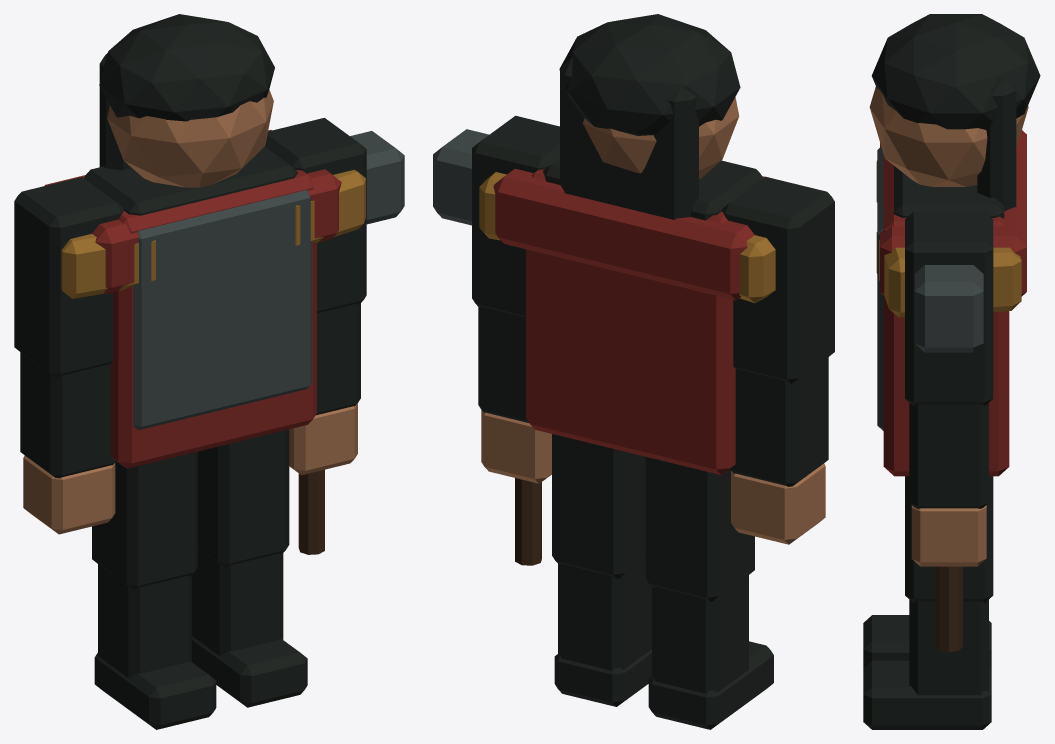
The model's file is MaraForgeOathkeeper.glb.
The picture shows the model from 3 angles, left to right: view 1: azimuth 30°, elevation 25°; view 2: azimuth 150°, elevation 25°; view 3: azimuth 270°, elevation 25°; orthographic projection. The views are drawn at different scales.
Parts seen in each view (by area): view 1: UpperTorso_ForgePlate, LeftUpperArm, Head_HairCap, UpperTorso_Tunic, LeftUpperLeg, RightUpperLeg, Head, LeftLowerArm, LeftLowerLeg, RightLowerLeg, RightUpperArm, LeftFoot (+11 smaller); view 2: UpperTorso_Tunic, UpperTorso_OathMantle, LeftUpperArm, Head_HairCap, LeftUpperLeg, RightUpperLeg, Head_HairBack, LeftLowerArm, LeftLowerLeg, RightLowerLeg, RightUpperArm, LeftHand (+10 smaller); view 3: Head_HairCap, RightUpperArm, RightLowerArm, UpperTorso_Tunic, Head, RightFoot, RightLowerLeg, RightHand_HammerHead, RightHand, Head_HairBack, RightUpperLeg, UpperTorso_PauldronR (+5 smaller).
Boxes of the visible parts, left/top/right/bottom form: UpperTorso_ForgePlate: left=133, top=190, right=312, bottom=430; LeftUpperArm: left=14, top=177, right=123, bottom=378; Head_HairCap: left=99, top=14, right=274, bottom=121; UpperTorso_Tunic: left=110, top=170, right=316, bottom=468; LeftUpperLeg: left=92, top=451, right=197, bottom=590; RightUpperLeg: left=198, top=429, right=289, bottom=568; Head: left=107, top=90, right=273, bottom=187; LeftLowerArm: left=20, top=352, right=115, bottom=478; LeftLowerLeg: left=98, top=564, right=191, bottom=677; RightLowerLeg: left=192, top=548, right=283, bottom=655; RightUpperArm: left=265, top=118, right=366, bottom=313; LeftFoot: left=94, top=653, right=216, bottom=729; UpperTorso_Tunic: left=526, top=169, right=764, bottom=475; UpperTorso_OathMantle: left=493, top=168, right=754, bottom=300; LeftUpperArm: left=722, top=176, right=834, bottom=384; Head_HairCap: left=559, top=14, right=740, bottom=135; LeftUpperLeg: left=645, top=457, right=754, bottom=602; RightUpperLeg: left=552, top=434, right=645, bottom=579; Head_HairBack: left=560, top=58, right=698, bottom=219; LeftLowerArm: left=730, top=357, right=828, bottom=486; LeftLowerLeg: left=652, top=575, right=748, bottom=693; RightLowerLeg: left=558, top=559, right=651, bottom=670; RightUpperArm: left=472, top=115, right=559, bottom=317; LeftHand: left=731, top=463, right=825, bottom=544; Head_HairCap: left=871, top=14, right=1040, bottom=129; RightUpperArm: left=905, top=211, right=993, bottom=406; RightLowerArm: left=909, top=403, right=988, bottom=508; UpperTorso_Tunic: left=883, top=155, right=1009, bottom=476; Head: left=869, top=86, right=1028, bottom=186; RightFoot: left=863, top=660, right=991, bottom=729; RightLowerLeg: left=909, top=600, right=988, bottom=695; RightHand_HammerHead: left=914, top=265, right=983, bottom=352; RightHand: left=911, top=505, right=986, bottom=566; Head_HairBack: left=977, top=78, right=1016, bottom=211; RightUpperLeg: left=905, top=476, right=993, bottom=603; UpperTorso_PauldronR: left=876, top=232, right=1021, bottom=317.
Bounding box in the file's own units: 4.91 × 8.55 × 2.04.
1 material, 1 textured.
